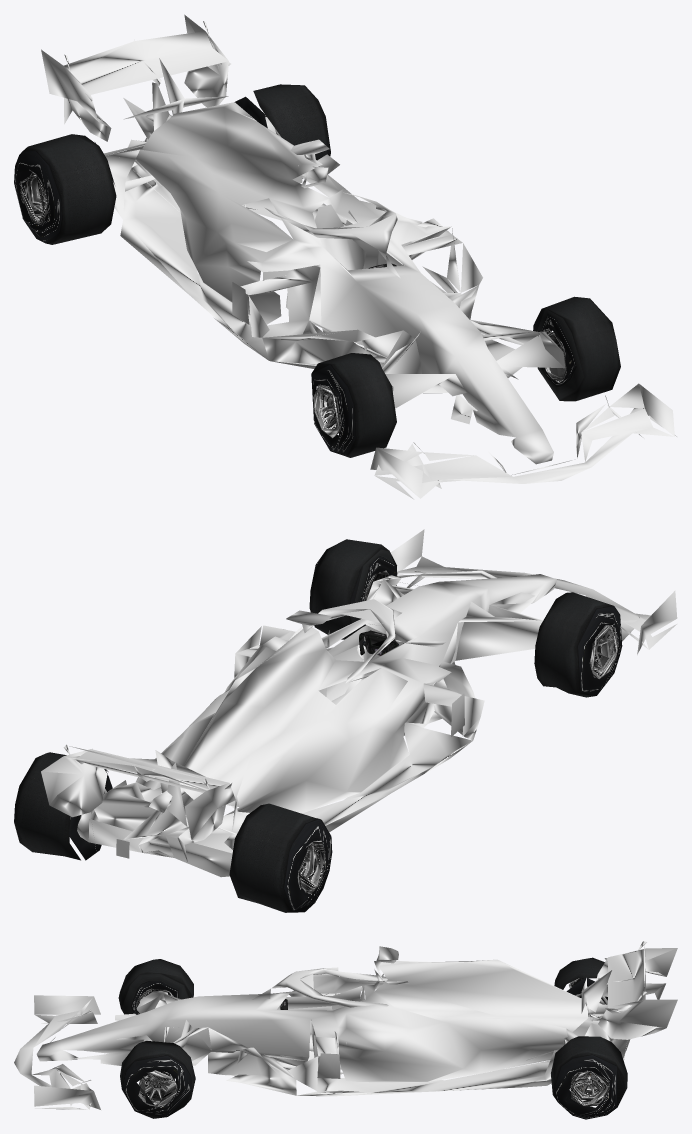
Rendered from mcl35m.glb.
3 renders of one model, top to bottom at view 1: azimuth 30°, elevation 25°; view 2: azimuth 150°, elevation 25°; view 3: azimuth 270°, elevation 25°, orthographic. The views are drawn at different scales.
Size of the model in its own units: 2.03 by 1.14 by 5.68.
Materials: 8 (4 with a texture image).
